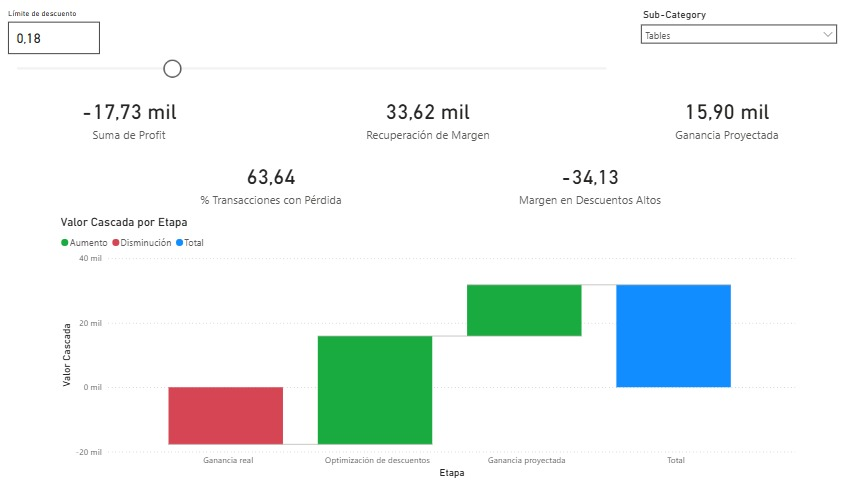

This screenshot's page, from the dashboard's own definition file:
{"tool":"powerbi","page":{"name":"Sensibilidad","canvas":[1280,720],"ordinal":1},"visuals":[{"type":"slicer","fields":{"Values":["Límite de descuento.Límite de descuento"]},"box":[27.1,27.1,890,114.3],"z":0},{"type":"card","fields":{"Values":["tabla_final.Recuperación de Margen"]},"box":[425.7,141.4,428.6,92.9],"z":1000},{"type":"card","fields":{"Values":["Sum(tabla_final.Profit)"]},"box":[0,141.4,425.7,92.9],"z":2000},{"type":"card","fields":{"Values":["tabla_final.Ganancia Simulada2"]},"box":[854.3,141.4,425.7,92.9],"z":3000},{"type":"waterfallChart","fields":{"Category":["Estructura_cascada.Etapa"],"Y":["Estructura_cascada.Valor Cascada"]},"box":[110,327.1,1060,381.4],"z":4000},{"type":"card","fields":{"Values":["tabla_final.% Transacciones con Pérdida"]},"box":[202.9,234.3,425.7,92.9],"z":4001},{"type":"slicer","fields":{"Values":["tabla_final.Sub-Category"]},"box":[934.3,27.1,300,81.4],"z":4002},{"type":"card","fields":{"Values":["tabla_final.Margen en Descuentos Altos"]},"box":[658.6,234.3,425.7,92.9],"z":4003}]}

Visuals, with their boxes in screenshot pixels (x1, y1, x2, y2), scaled from the page's 1280x720 canvas onto the 854x483 screenshot:
slicer - Límite de descuento.Límite de descuento: crop(18, 18, 612, 95)
card - tabla_final.Recuperación de Margen: crop(284, 95, 570, 157)
card - Sum(tabla_final.Profit): crop(0, 95, 284, 157)
card - tabla_final.Ganancia Simulada2: crop(570, 95, 853, 157)
waterfallChart - Estructura_cascada.Etapa x Estructura_cascada.Valor Cascada: crop(73, 219, 781, 475)
card - tabla_final.% Transacciones con Pérdida: crop(135, 157, 419, 219)
slicer - tabla_final.Sub-Category: crop(623, 18, 824, 73)
card - tabla_final.Margen en Descuentos Altos: crop(439, 157, 723, 219)
